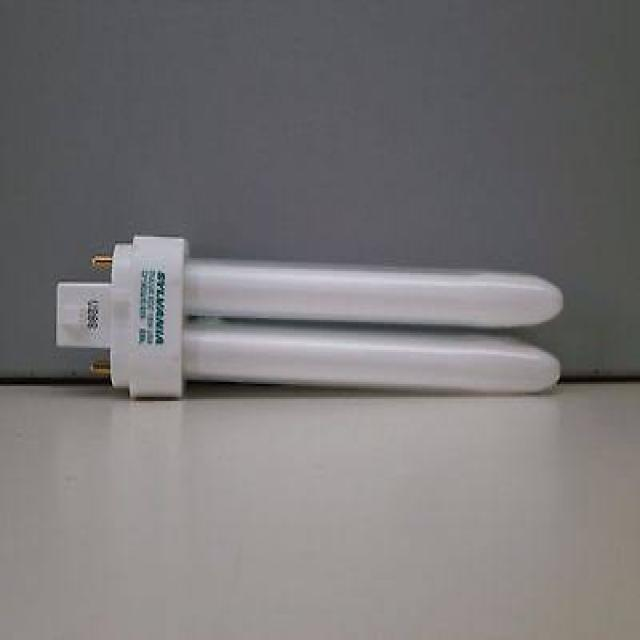bulb: (55, 233, 570, 408)
